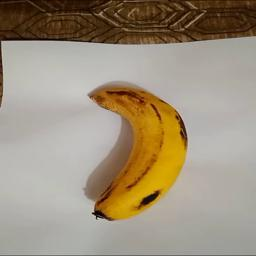Banana Semifresh: (87, 84, 190, 224)
